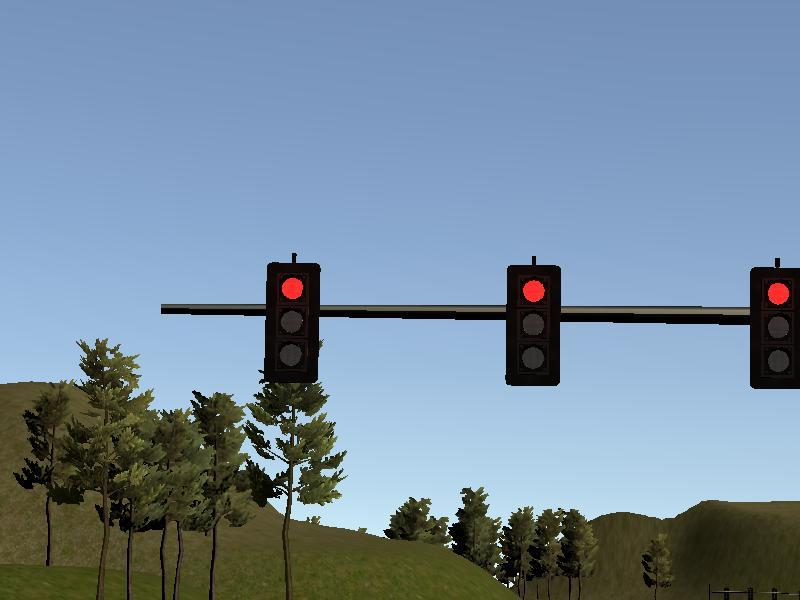Red: (265, 262, 319, 383), (506, 265, 560, 386), (747, 268, 800, 390)
